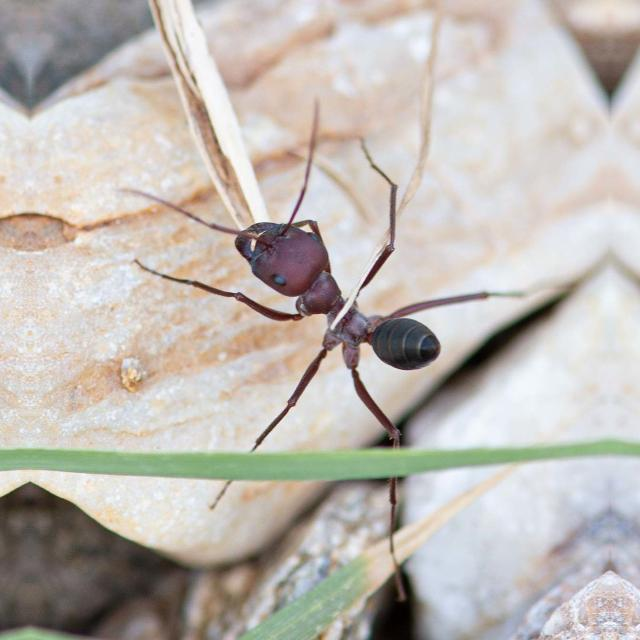Cataglyphis: (203, 174, 475, 424)
